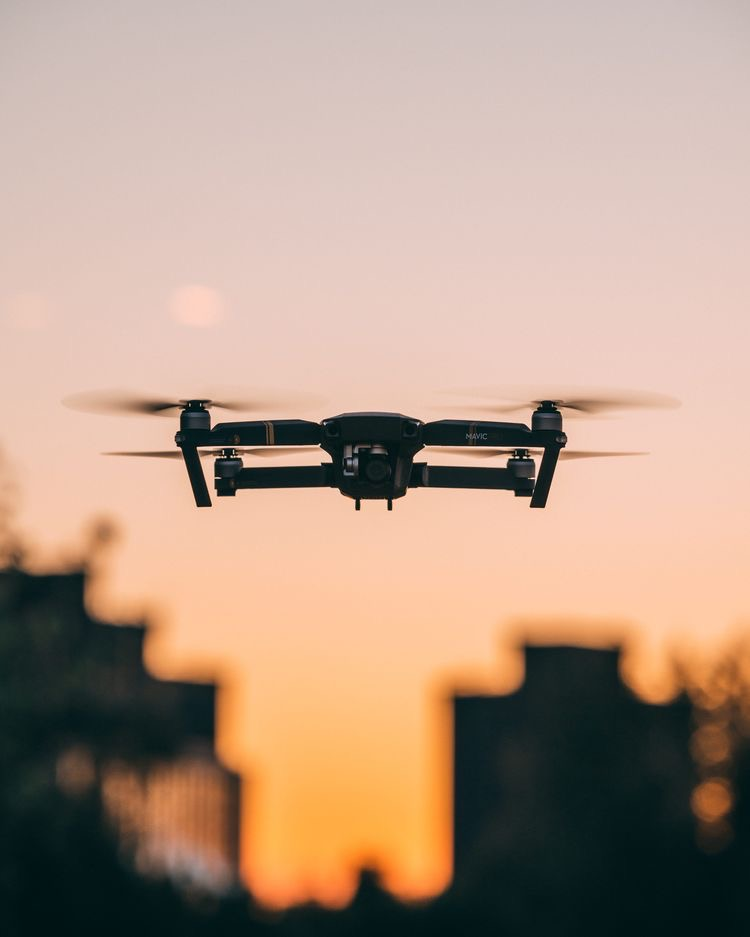drone_other: (58, 381, 686, 511)
